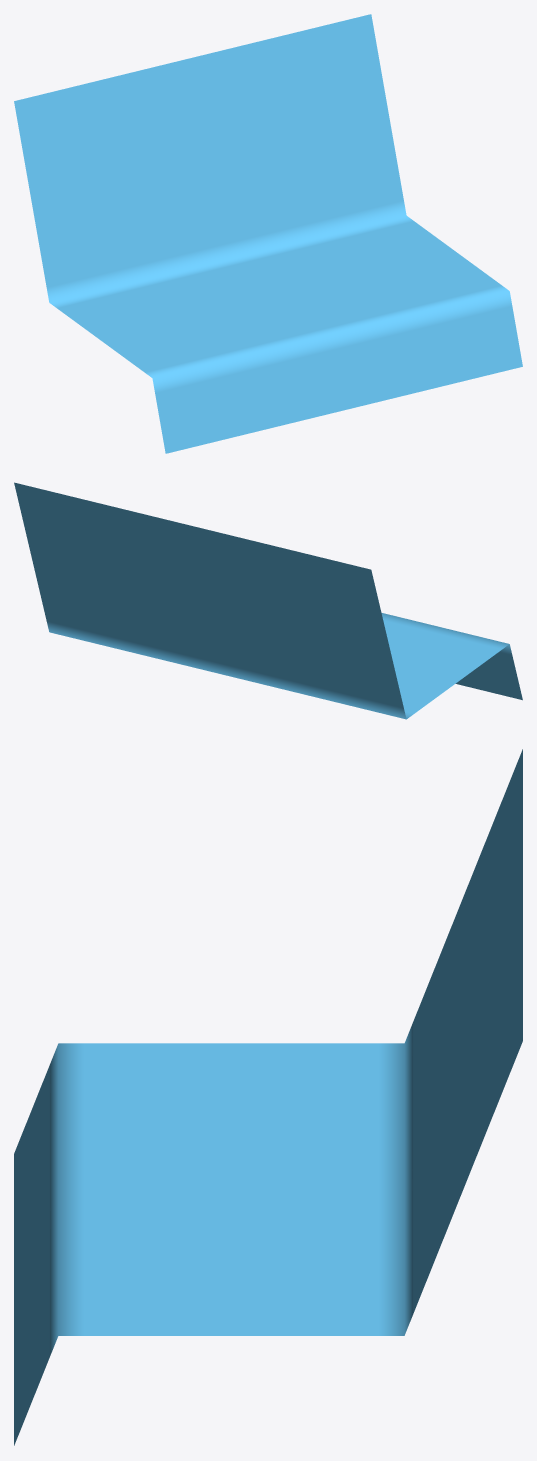
Rendered from Studio.gltf.
3 renders of one model, top to bottom at view 1: azimuth 30°, elevation 25°; view 2: azimuth 150°, elevation 25°; view 3: azimuth 270°, elevation 25°, orthographic. The views are drawn at different scales.
Visible parts, largest first — view 1: Studio S; view 2: Studio S; view 3: Studio S.
Part boxes in pixels (<box>): Studio S: <box>14,14,522,453</box>; Studio S: <box>14,482,522,719</box>; Studio S: <box>14,749,522,1445</box>.
Size of the model in its own units: 8 by 5.17 by 5.88.
